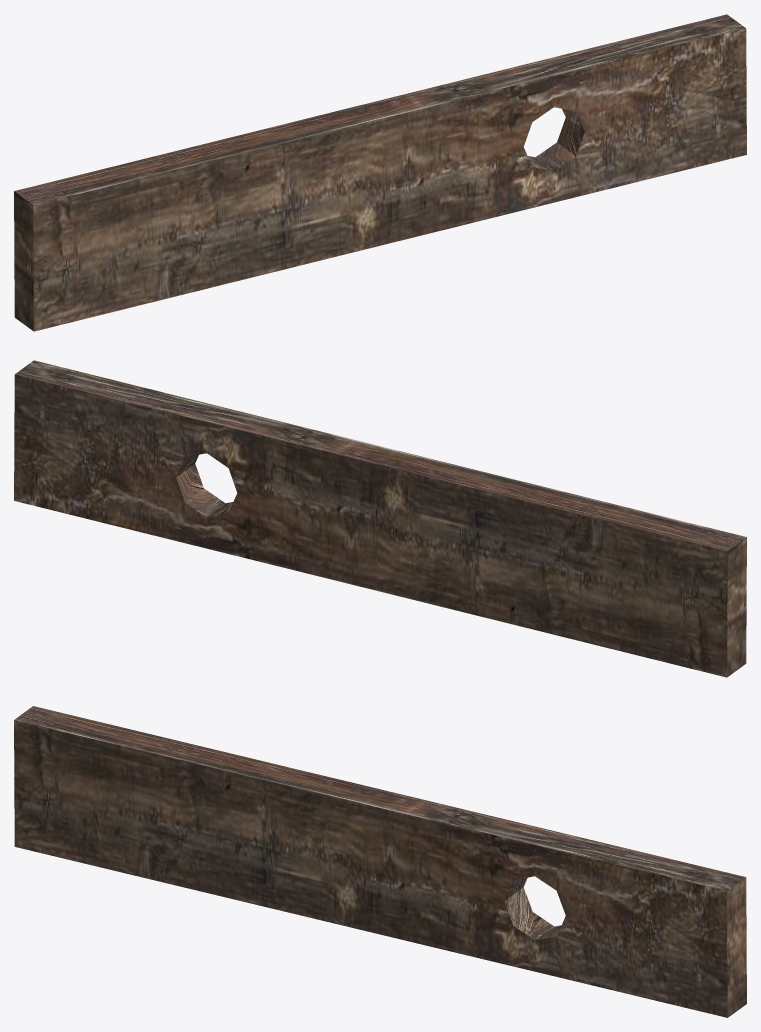
File: FencePlank2.fbx
The picture shows the model from 3 angles, top to bottom: view 1: azimuth 30°, elevation 25°; view 2: azimuth 150°, elevation 25°; view 3: azimuth 330°, elevation 25°; orthographic projection.
Parts seen in each view (by area): view 1: FencePlank2; view 2: FencePlank2; view 3: FencePlank2.
Boxes of the visible parts, left/top/right/bottom form: FencePlank2: left=14, top=14, right=746, bottom=331; FencePlank2: left=14, top=360, right=746, bottom=677; FencePlank2: left=14, top=706, right=746, bottom=1017.
Size of the model in its own units: 142 by 24.66 by 6.63.
Materials: 1 (1 with a texture image).
